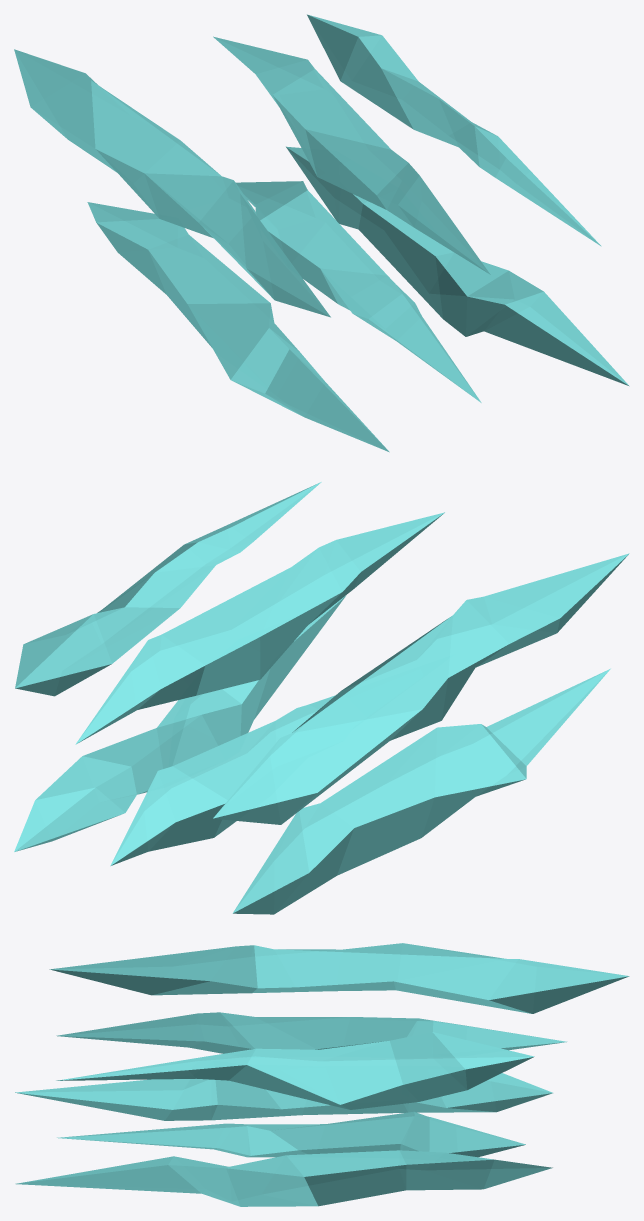
The model's file is Icicles.fbx.
The picture shows the model from 3 angles, top to bottom: view 1: azimuth 30°, elevation 25°; view 2: azimuth 150°, elevation 25°; view 3: azimuth 270°, elevation 25°; orthographic projection. The views are drawn at different scales.
Parts seen in each view (by area): view 1: Icicle_A, Icicle_C, Icicle_E, Icicle_F, Icicle_B, Icicle_D; view 2: Icicle_A, Icicle_C, Icicle_F, Icicle_E, Icicle_D, Icicle_B; view 3: Icicle_A, Icicle_E, Icicle_D, Icicle_C, Icicle_B, Icicle_F.
Part boxes in pixels (x1,y1,x2,y2): Icicle_A: [14, 49, 330, 317]; Icicle_C: [87, 202, 389, 452]; Icicle_E: [286, 146, 629, 386]; Icicle_F: [213, 36, 490, 274]; Icicle_B: [236, 181, 481, 402]; Icicle_D: [307, 14, 601, 246]; Icicle_A: [213, 553, 629, 824]; Icicle_C: [232, 668, 610, 914]; Icicle_F: [75, 512, 444, 744]; Icicle_E: [14, 596, 345, 851]; Icicle_D: [15, 482, 321, 696]; Icicle_B: [110, 695, 335, 865]; Icicle_A: [49, 943, 629, 1013]; Icicle_E: [15, 1150, 552, 1206]; Icicle_D: [56, 1032, 534, 1109]; Icicle_C: [15, 1073, 552, 1120]; Icicle_B: [57, 1111, 525, 1157]; Icicle_F: [56, 1012, 567, 1053].
Bounding box in the file's own units: 1.7 × 3.2 × 1.01.
